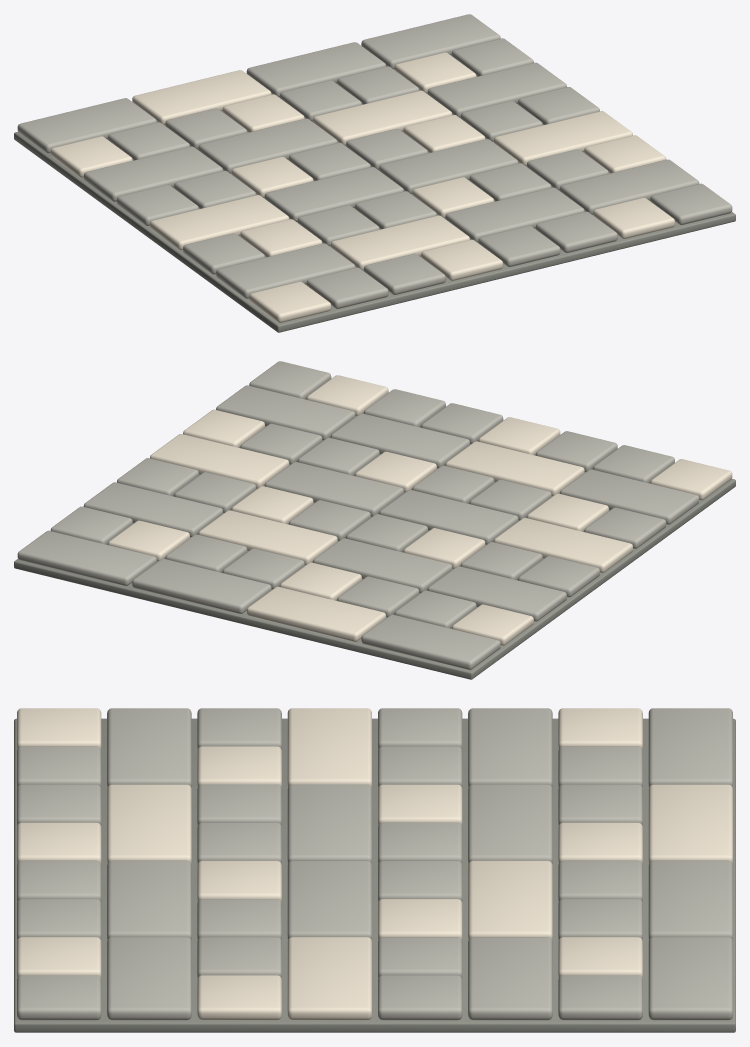
File: cobble-patio.glb
The picture shows the model from 3 angles, top to bottom: view 1: azimuth 30°, elevation 25°; view 2: azimuth 150°, elevation 25°; view 3: azimuth 270°, elevation 25°; orthographic projection. The views are drawn at different scales.
Visible parts, largest first — view 1: cobble-patio; view 2: cobble-patio; view 3: cobble-patio.
Boxes of the visible parts, <box> form: cobble-patio: <box>14,14,735,332</box>; cobble-patio: <box>14,361,735,679</box>; cobble-patio: <box>14,708,735,1032</box>.
Size of the model in its own units: 2 by 0.07 by 2.
